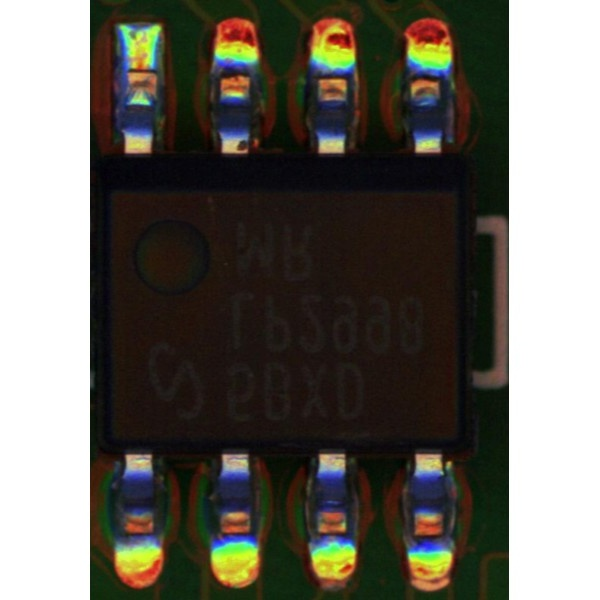Bad_podu: (128, 55, 152, 81)
